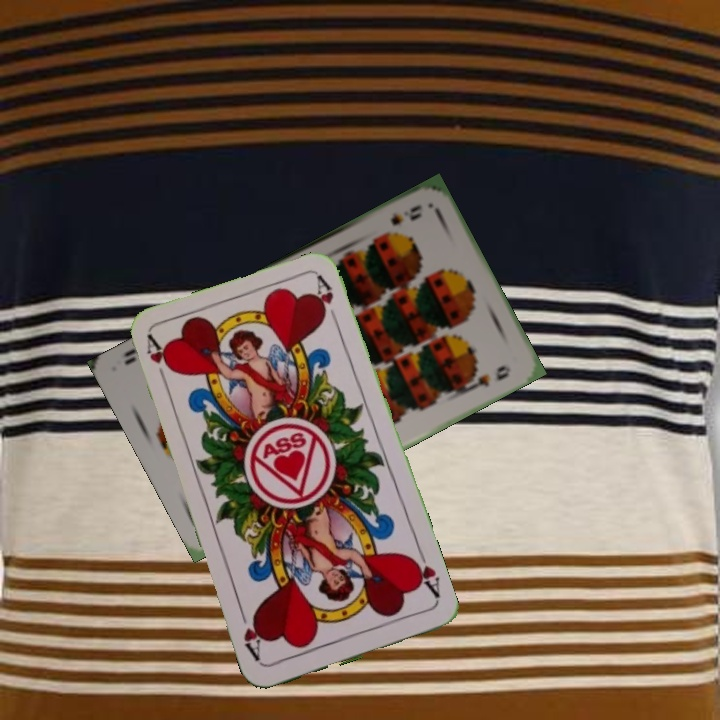HA: (405, 547, 443, 605), (142, 332, 175, 390)
S9: (386, 200, 425, 228)
